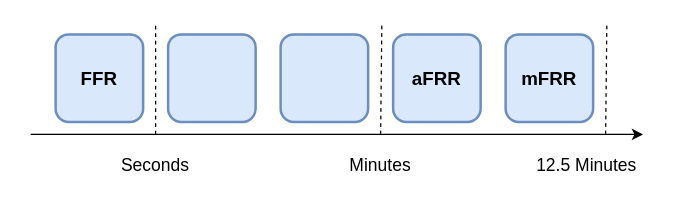
The diagram is 678 pixels wide and 206 high, and some of its shapes have lost their labels. Each missing label, with the centre of its shape:
"FCR-D" goes at point (211, 77).
"FCR-N" goes at point (324, 77).
